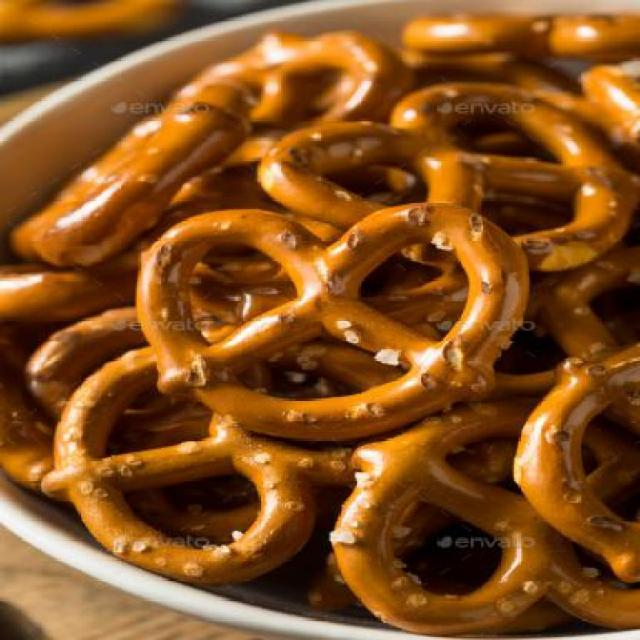Salatini packaged: (13, 14, 639, 637)
